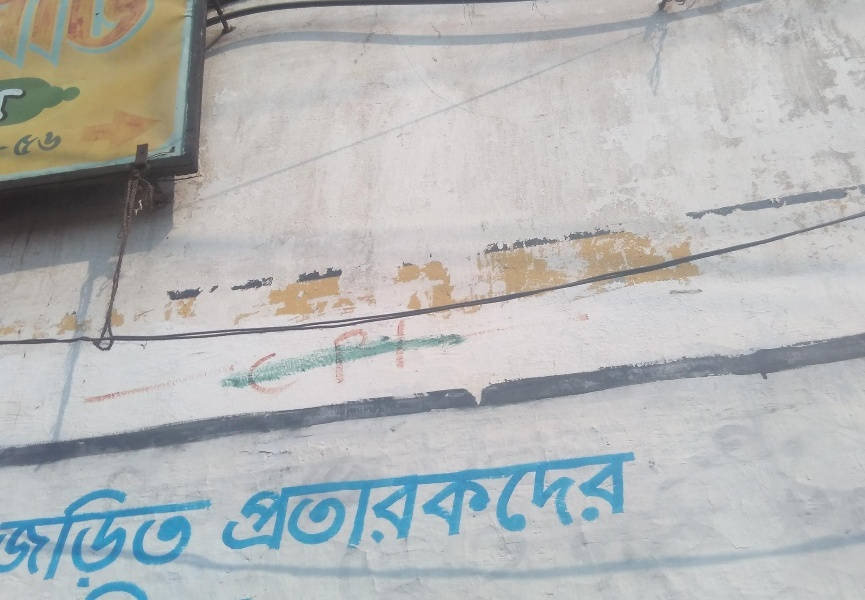text: (625, 440, 641, 565), (241, 440, 256, 565), (257, 440, 272, 565), (273, 440, 288, 565), (289, 440, 304, 565), (305, 440, 320, 565), (321, 440, 336, 565), (337, 440, 352, 565), (353, 440, 368, 565), (369, 440, 384, 565), (385, 440, 400, 565), (401, 440, 416, 565), (417, 440, 432, 565), (433, 440, 448, 565), (449, 440, 464, 565), (465, 440, 480, 565), (481, 440, 496, 565), (497, 440, 512, 565), (513, 440, 528, 565), (529, 440, 544, 565), (545, 440, 560, 565), (561, 440, 576, 565), (577, 440, 592, 565), (593, 440, 608, 565), (609, 440, 624, 565), (17, 2, 32, 126), (33, 2, 48, 126), (49, 2, 64, 126), (65, 2, 80, 126), (81, 2, 96, 126), (97, 2, 112, 126), (113, 2, 128, 126), (129, 2, 144, 126), (145, 2, 160, 126), (161, 2, 176, 126), (17, 485, 32, 600), (33, 485, 48, 600), (49, 485, 64, 600), (65, 485, 80, 600), (81, 485, 96, 600), (97, 485, 112, 600), (113, 485, 128, 600), (129, 485, 144, 600), (145, 485, 160, 600), (161, 485, 176, 600), (177, 485, 192, 600), (193, 485, 208, 600), (227, 440, 240, 565), (3, 485, 16, 600), (209, 485, 221, 600), (241, 314, 256, 402), (257, 314, 272, 402), (273, 314, 288, 402), (289, 314, 304, 402), (305, 314, 320, 402), (321, 314, 336, 402), (337, 314, 352, 402), (353, 314, 368, 402), (369, 314, 384, 402), (385, 314, 400, 402), (401, 314, 416, 402), (8, 2, 16, 126), (177, 2, 185, 126), (17, 122, 32, 161), (33, 122, 48, 161), (49, 122, 64, 161), (417, 314, 422, 402), (81, 577, 96, 600), (97, 577, 112, 600), (113, 577, 128, 600), (129, 577, 144, 600), (65, 122, 71, 161), (77, 577, 80, 600), (145, 577, 148, 600)
